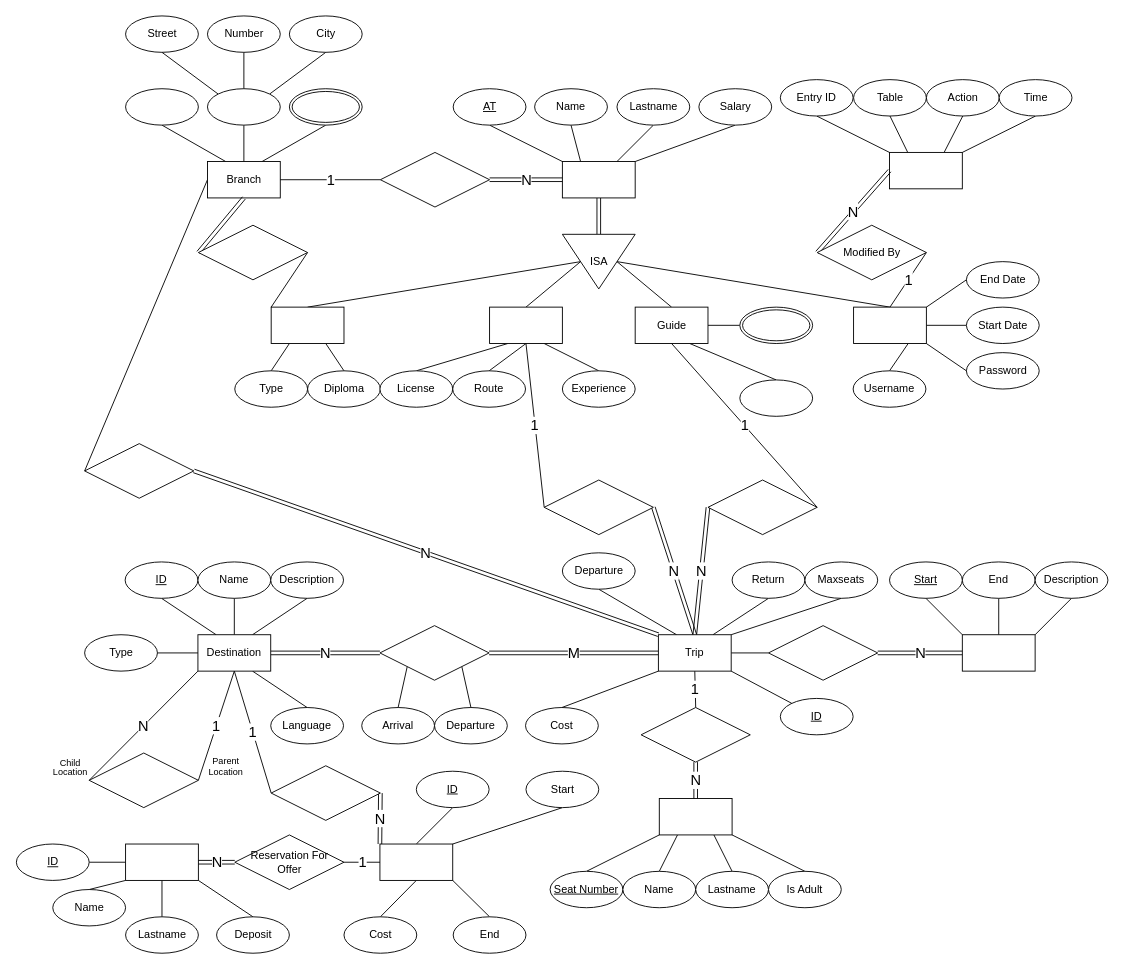
The diagram is 1124 pixels wide and 969 high, and some of its shapes have lost their labels. The shapes that lost their labels are listed below. From the top down, each one's box as (x1, y1, x2, y2) in pixels, then its label:
(125, 88, 198, 125): Code
(207, 88, 280, 125): Address
(288, 88, 362, 125): Phones
(379, 152, 490, 207): Works In
(561, 161, 635, 198): Worker
(889, 152, 962, 189): Log Entry
(197, 224, 308, 280): Managed By
(270, 306, 344, 344): Admin
(489, 306, 562, 344): Driver
(739, 306, 813, 344): Languages
(853, 306, 926, 344): IT Manager
(739, 379, 813, 416): CV
(84, 443, 194, 498): Organized By
(543, 479, 653, 535): Has Driver
(707, 479, 817, 535): Has Guide
(379, 625, 489, 680): Has Destination
(768, 625, 878, 680): Has Event
(961, 634, 1035, 671): Event
(640, 707, 750, 762): Has Reservation
(88, 752, 198, 808): Located In
(270, 765, 380, 820): Offer For Destination
(658, 798, 732, 835): Reservation
(125, 843, 198, 880): Reservation Offer
(379, 843, 453, 880): Offer
